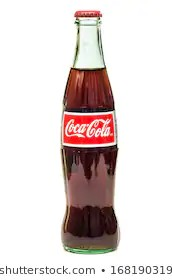coke-glass-bottle: (45, 5, 139, 254)
